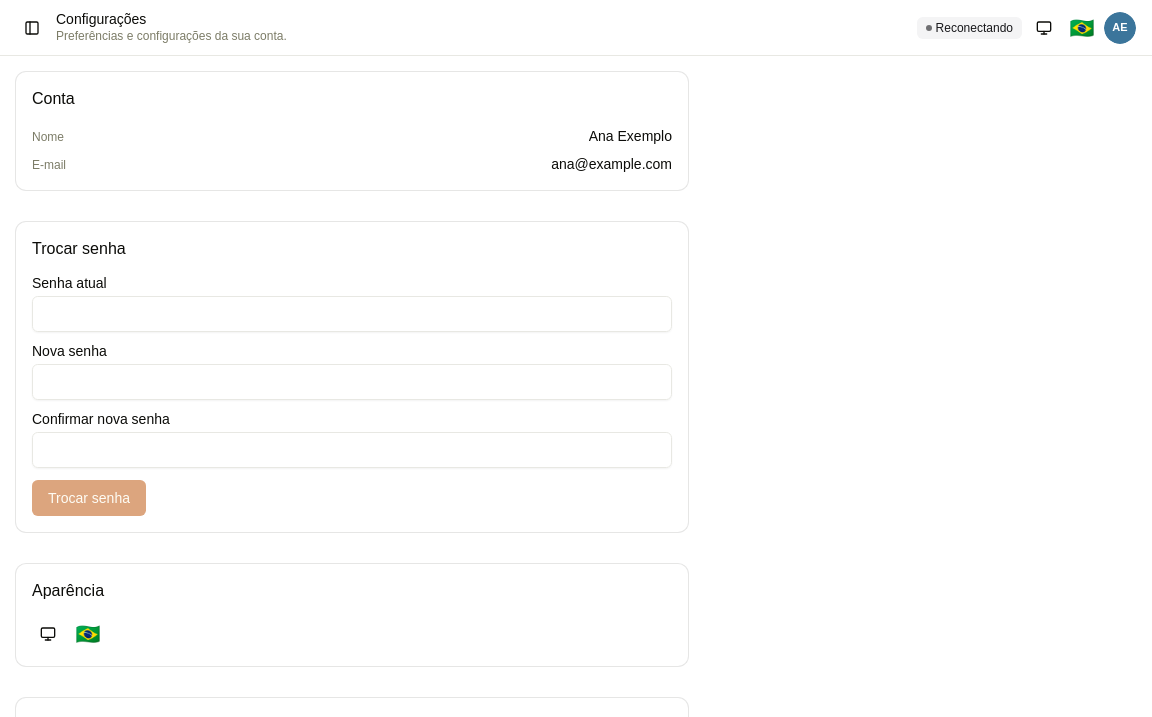
it: settings: change password › maps 401 to the wrong-current message
This screenshot has width=1152, height=717.
Expected: the heading "Trocar senha" is shown, [32, 240, 126, 257]
Type "senha-atual-123" into the password field labelled "Senha atual". click: (352,314)
box: [32, 296, 672, 332]
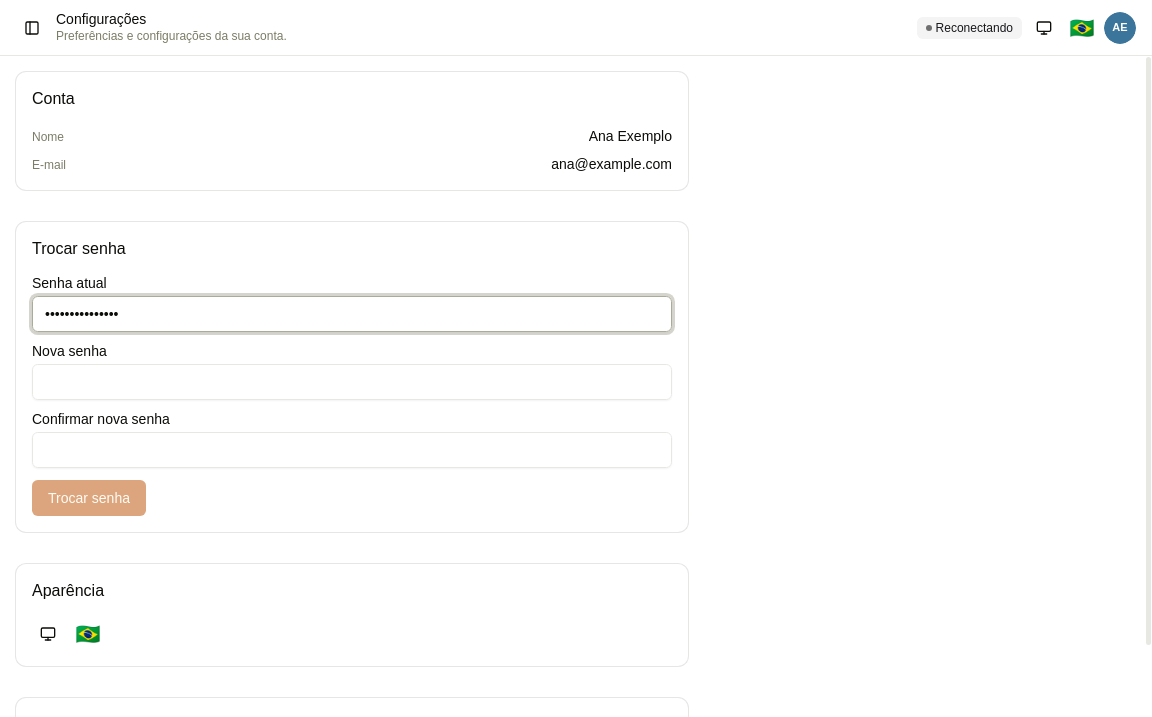
Type "nova-senha-123" into the password field labelled "Nova senha". click: (352,382)
box: [32, 364, 672, 400]
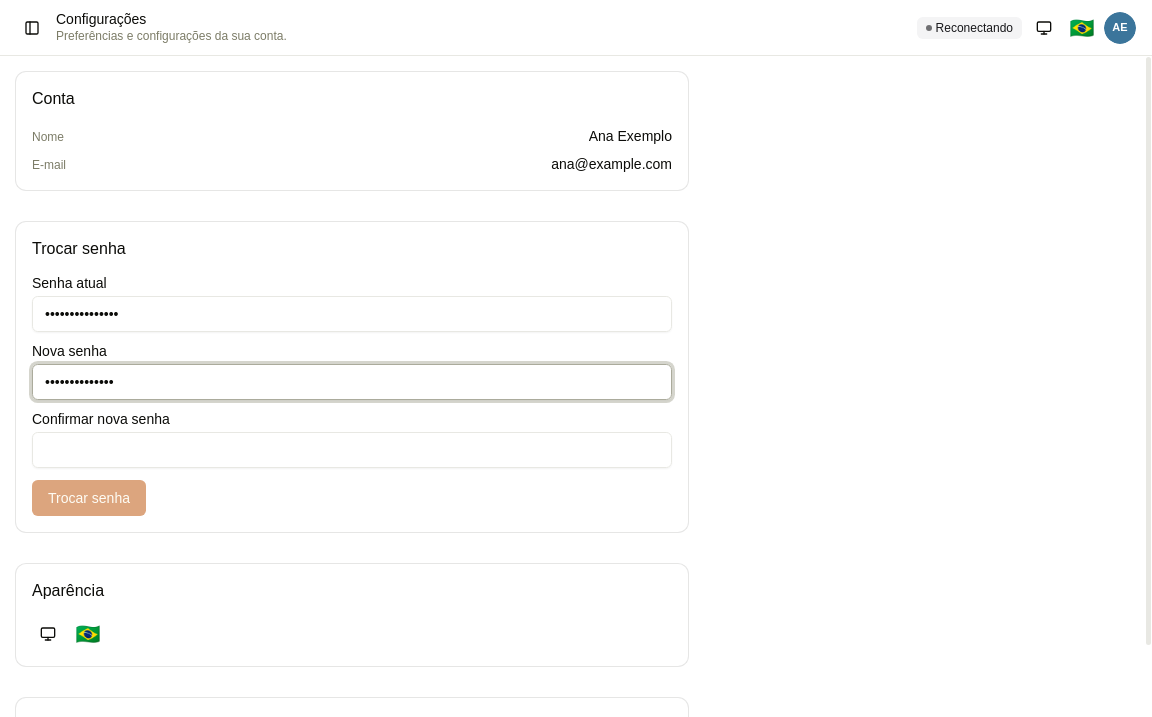
Type "nova-senha-123" into the password field labelled "Confirmar nova senha". click: (352,450)
box: [32, 432, 672, 468]
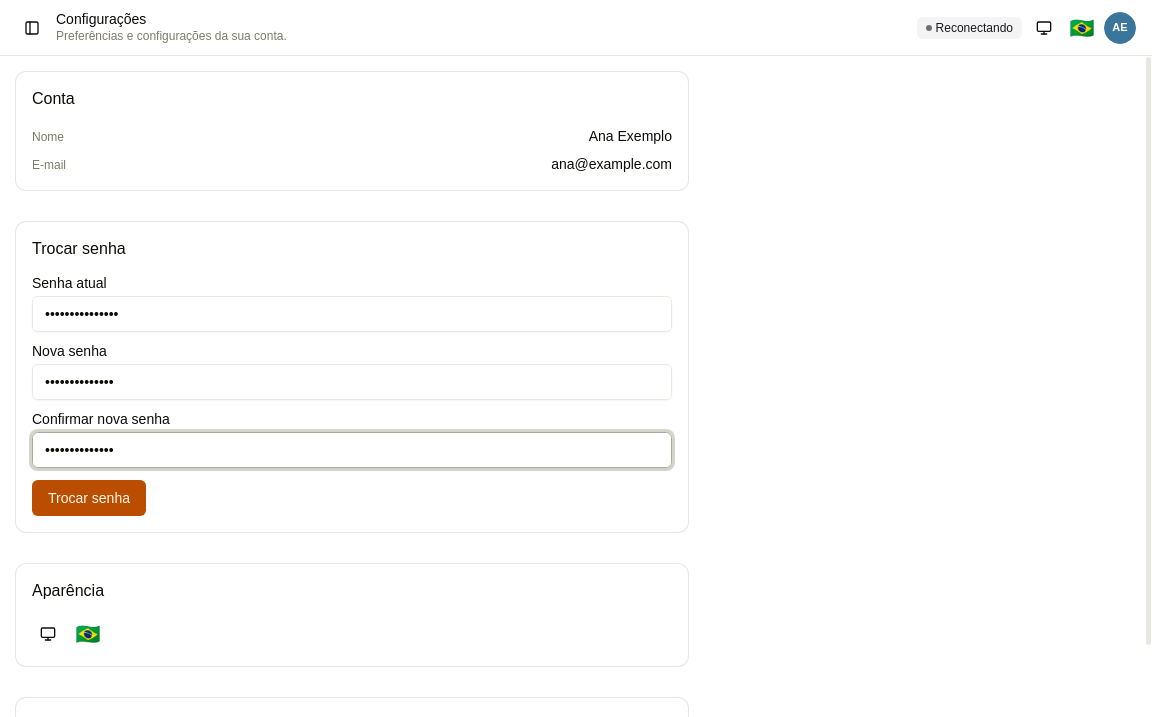
Click the button "Trocar senha". click: (89,498)
box: [32, 480, 146, 516]
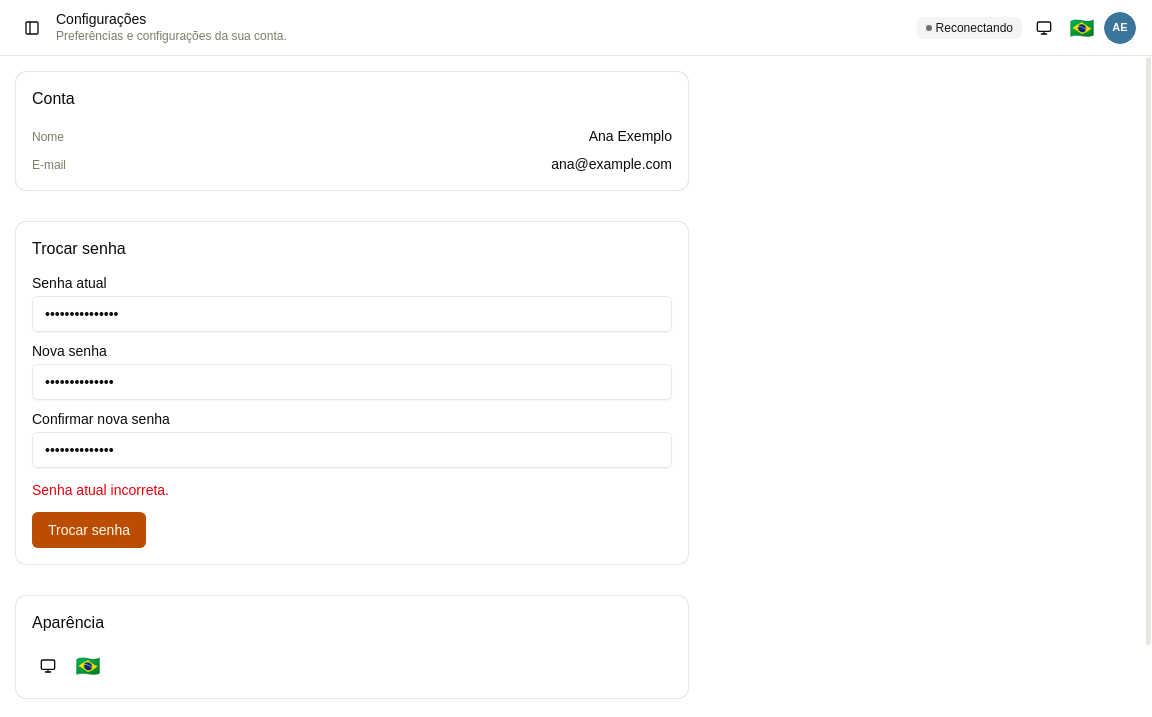
Now the message reads "Senha atual incorreta.", box [32, 482, 169, 498]
